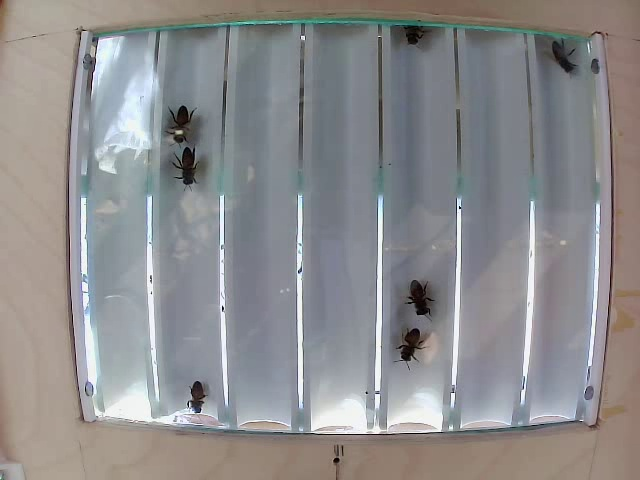bee: (157, 105, 203, 152), (390, 326, 430, 377), (168, 146, 210, 189), (402, 279, 444, 321), (538, 30, 573, 80), (402, 27, 442, 66), (180, 378, 215, 405)
